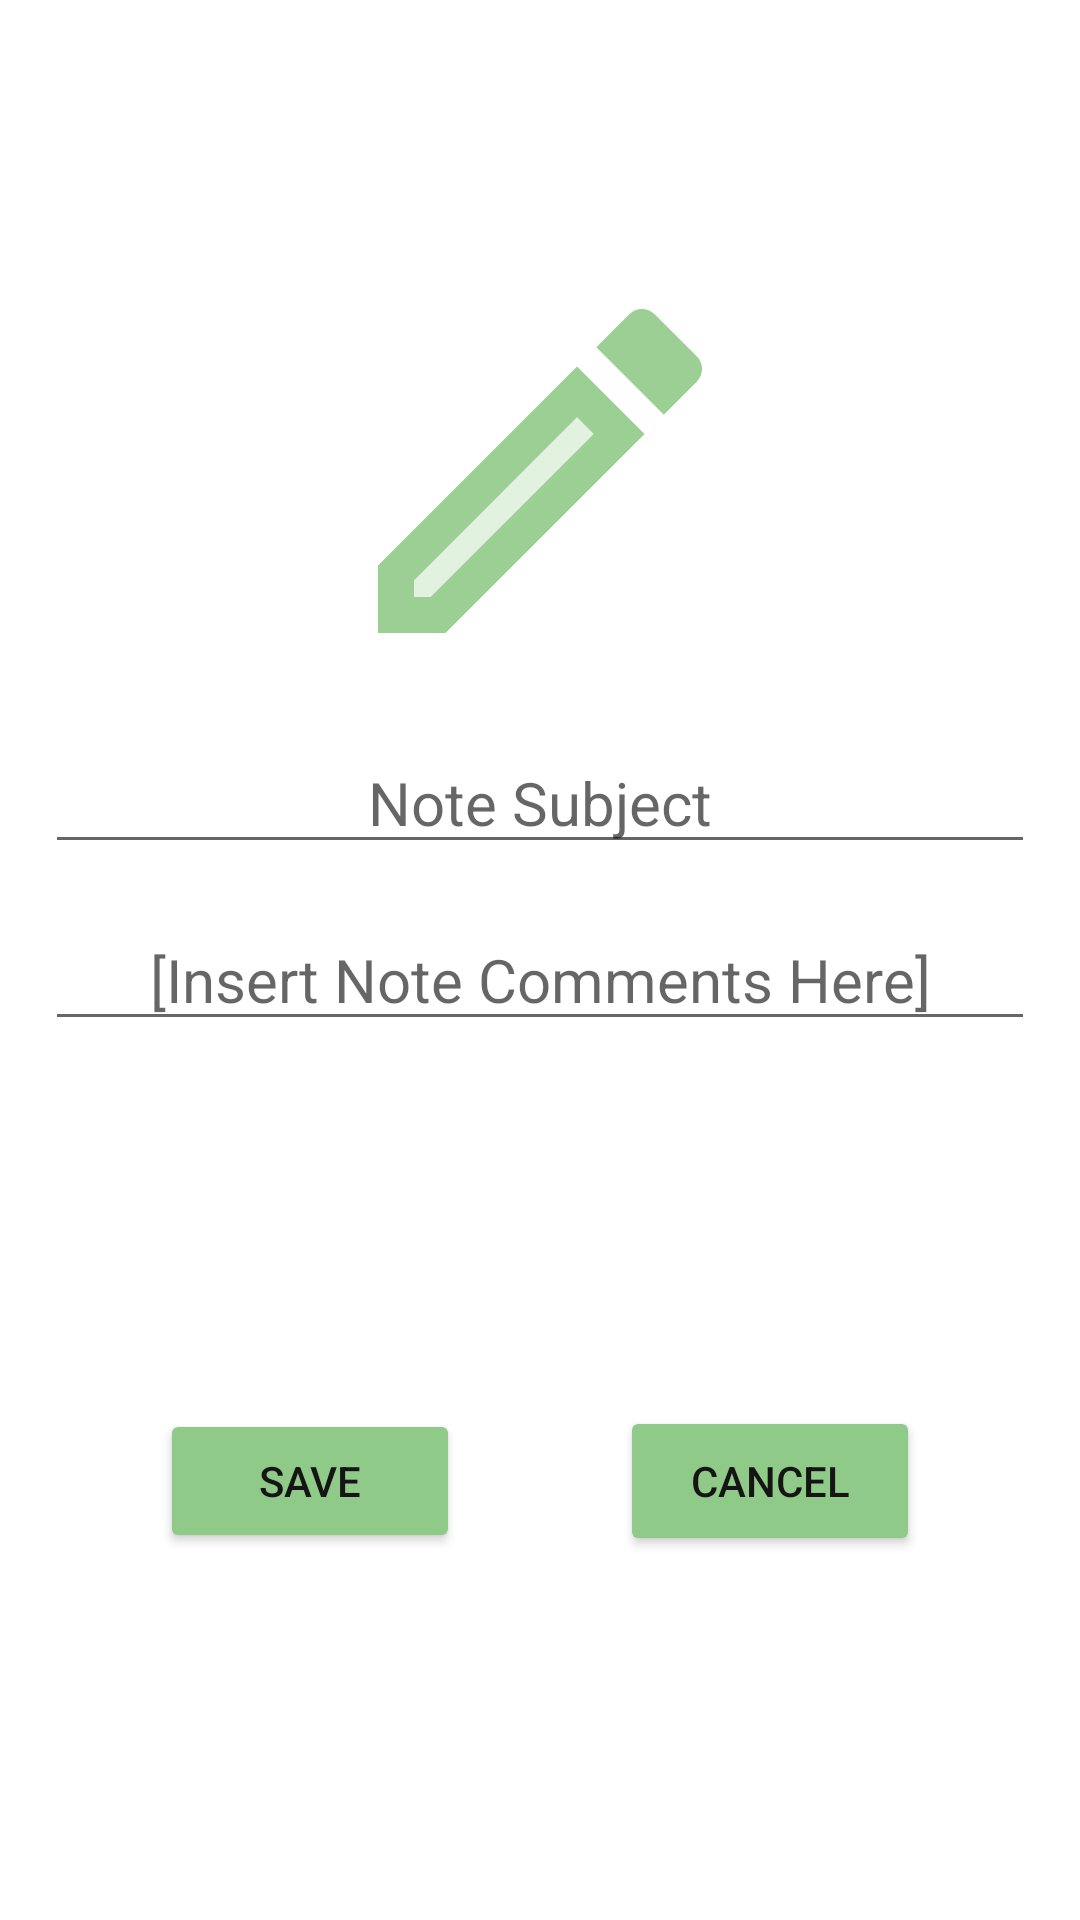

Icons on this 1080w x 1920h Android screen, each with the point to tap as (x,y):
edit: (540,471)
